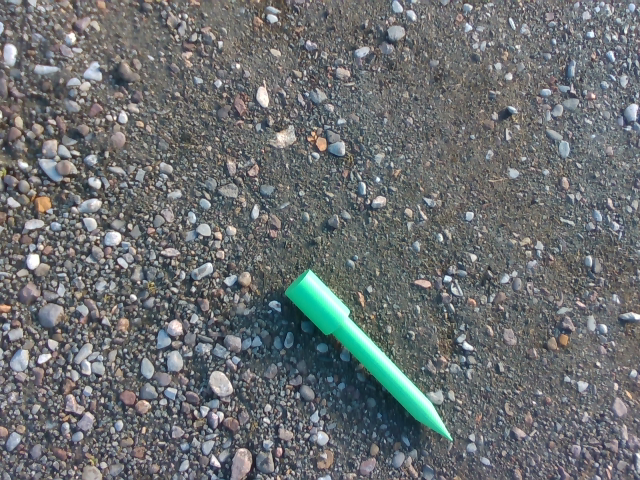Probe: (276, 258, 457, 450)
